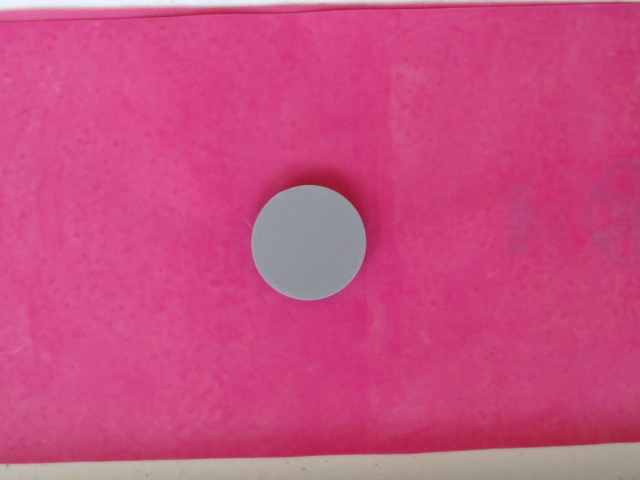NonDefective: (249, 183, 371, 301)
